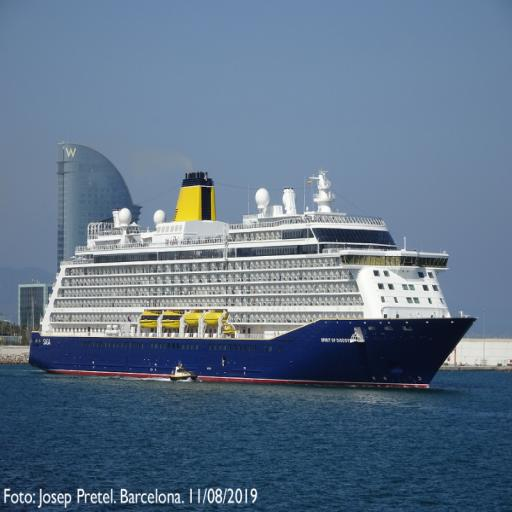cruises: (28, 170, 483, 398)
